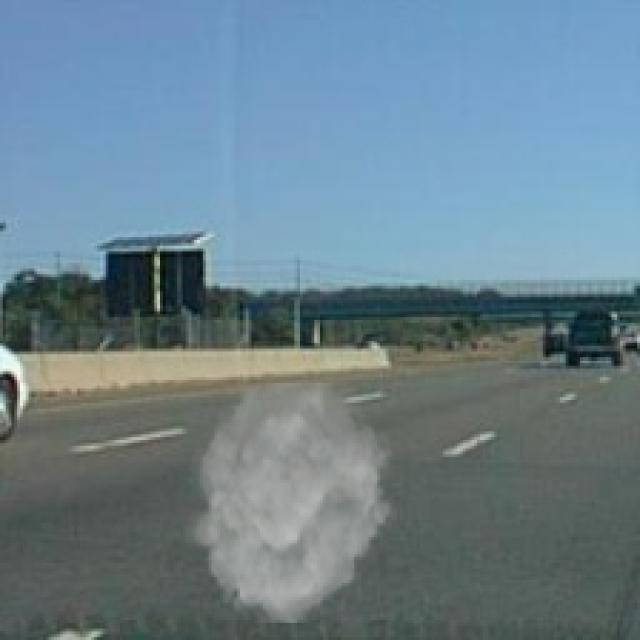smoke: (183, 383, 400, 623)
